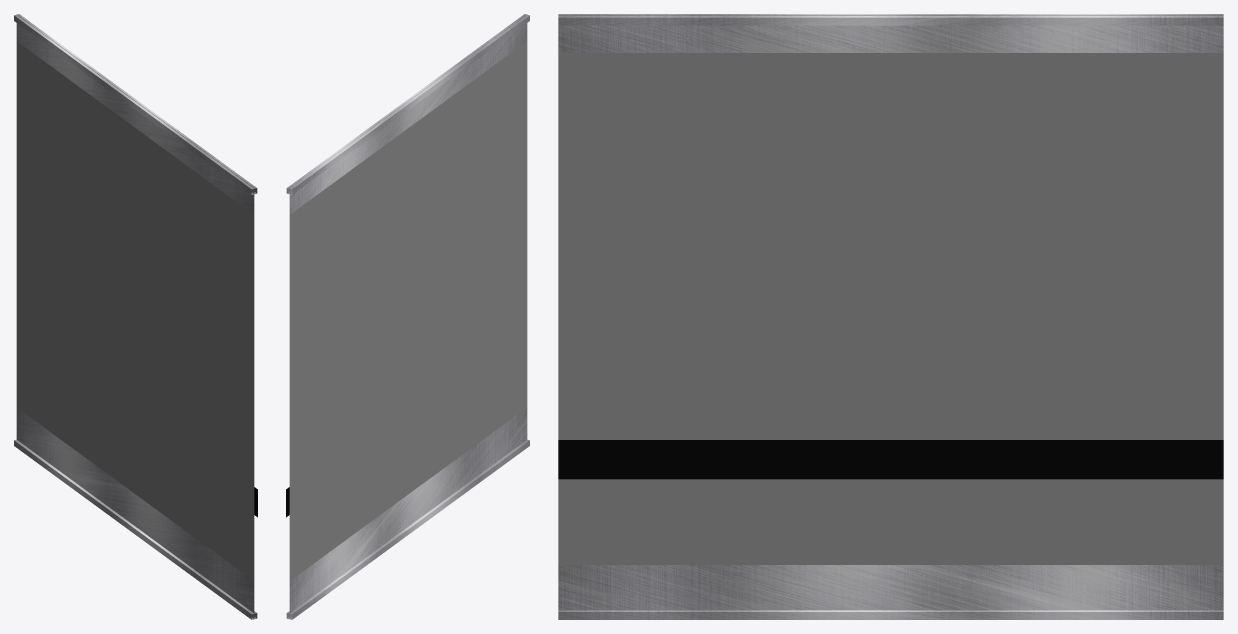
File: DoorWall.FBX
3 renders of one model, left to right at view 1: azimuth 30°, elevation 25°; view 2: azimuth 150°, elevation 25°; view 3: azimuth 270°, elevation 25°, orthographic. The views are drawn at different scales.
Visible parts, largest first — view 1: Object242, Object220; view 2: Object242, Object220; view 3: Object242, Object220.
Boxes of the visible parts, x1,y1,x2,y2 form: Object242: (16, 41, 254, 580); Object220: (14, 14, 257, 619); Object242: (289, 41, 527, 580); Object220: (286, 14, 529, 619); Object242: (558, 53, 1223, 564); Object220: (558, 14, 1223, 619).
Size of the model in its own units: 34.42 by 2300 by 2300.
